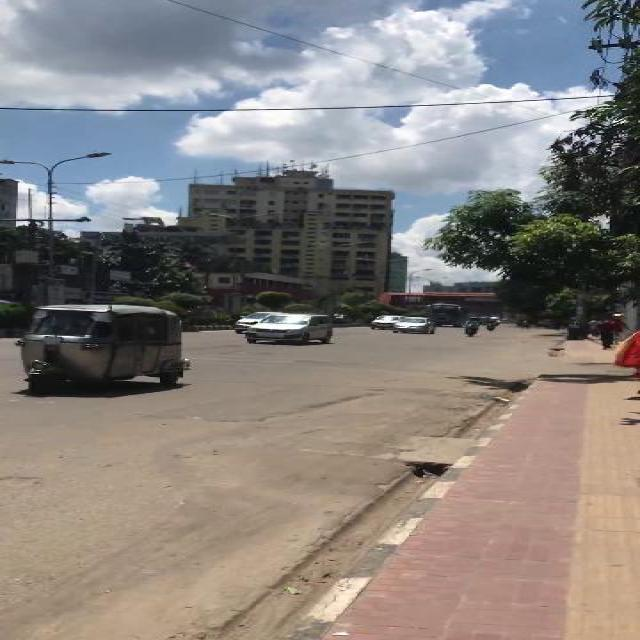bus: (424, 302, 461, 324)
car: (241, 312, 331, 346), (232, 310, 287, 332), (390, 315, 435, 333), (368, 314, 404, 328)
motorbike: (463, 314, 479, 336)
three wheelers -CNG-: (15, 301, 191, 391)
